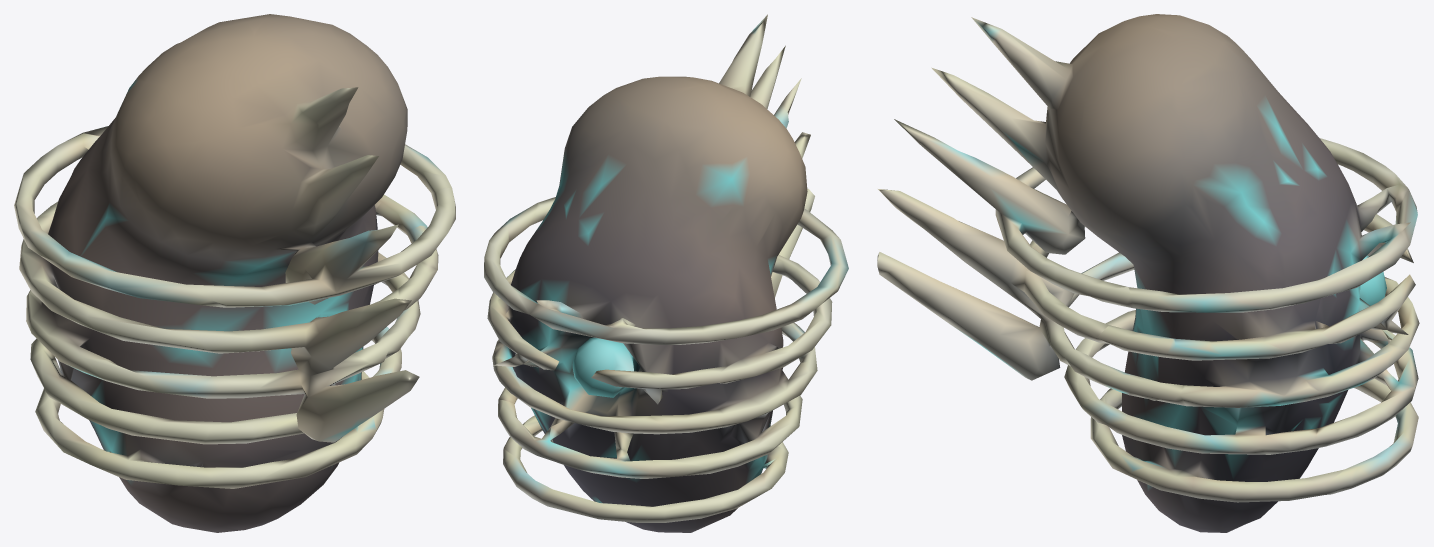
The model's file is husk_torso.glb.
3 views of the same model, side by side, from view 1: azimuth 30°, elevation 25°; view 2: azimuth 150°, elevation 25°; view 3: azimuth 270°, elevation 25° (orthographic). The views are drawn at different scales.
Parts seen in each view (by area): view 1: geometry_0; view 2: geometry_0; view 3: geometry_0.
Part boxes in pixels (left/top/right/bottom): geometry_0: left=14, top=14, right=455, bottom=532; geometry_0: left=484, top=14, right=848, bottom=532; geometry_0: left=877, top=14, right=1419, bottom=532.
Size of the model in its own units: 0.7352 by 0.9542 by 0.946.
